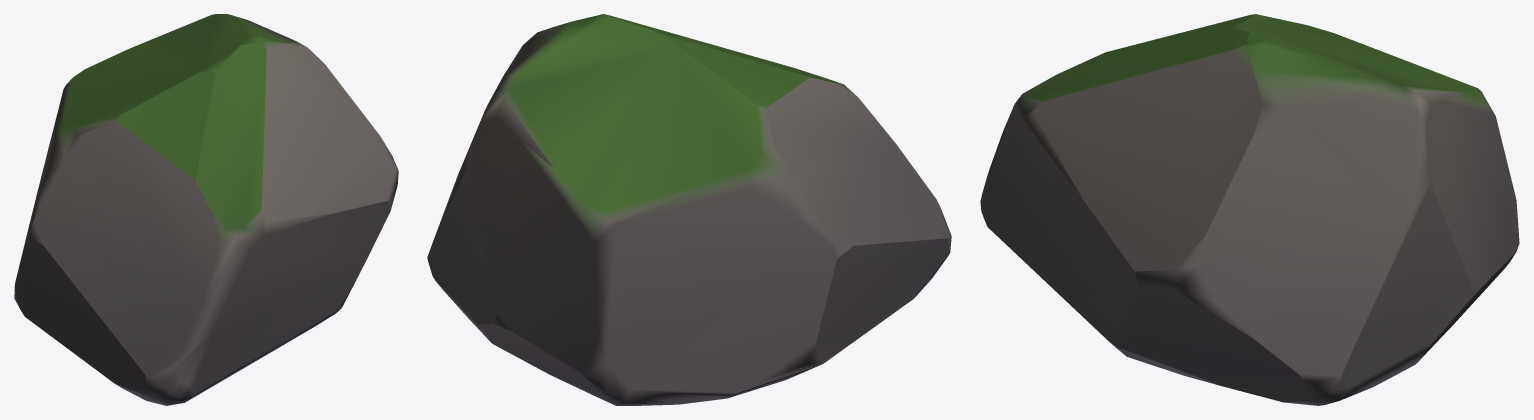
File: rock_2.glb
The picture shows the model from 3 angles, left to right: view 1: azimuth 30°, elevation 25°; view 2: azimuth 150°, elevation 25°; view 3: azimuth 270°, elevation 25°; orthographic projection. The views are drawn at different scales.
Parts seen in each view (by area): view 1: rock_2; view 2: rock_2; view 3: rock_2.
Part boxes in pixels (left/top/right/bottom): rock_2: left=14, top=14, right=398, bottom=405; rock_2: left=427, top=14, right=951, bottom=405; rock_2: left=980, top=14, right=1519, bottom=405.
Bounding box in the file's own units: 1.99 × 1.37 × 2.21.
